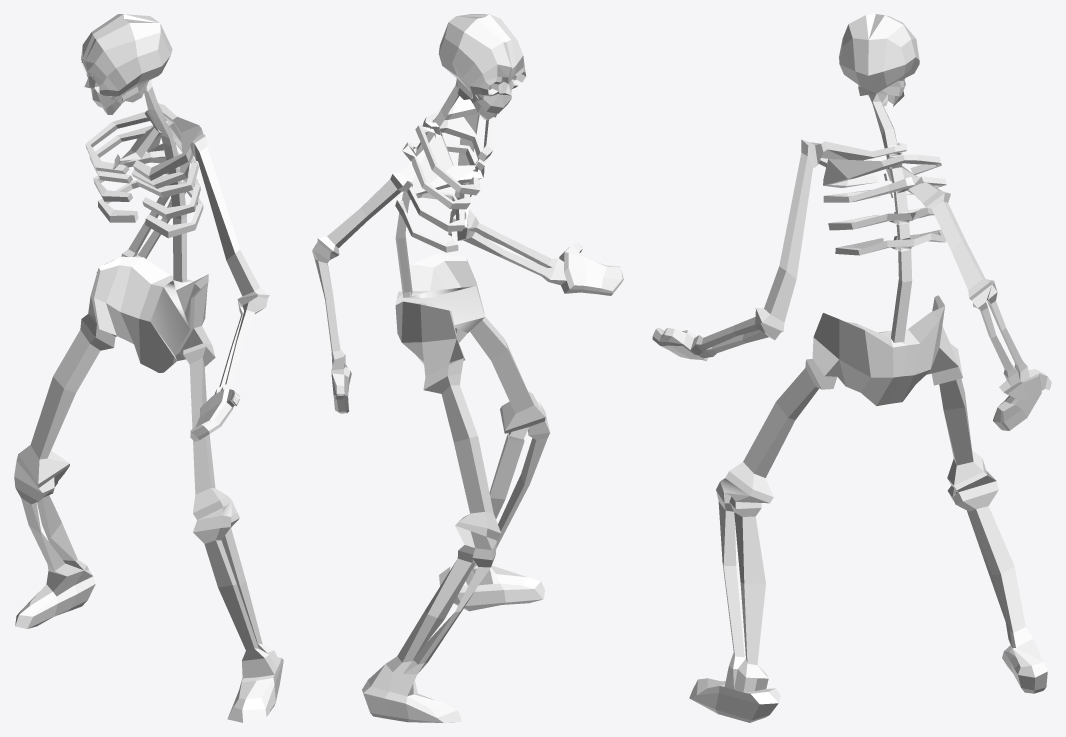
File: SkeletonIdle(86).obj
3 renders of one model, left to right at view 1: azimuth 30°, elevation 25°; view 2: azimuth 150°, elevation 25°; view 3: azimuth 270°, elevation 25°, orthographic. The views are drawn at different scales.
Visible parts, largest first — view 1: Object002; view 2: Object002; view 3: Object002.
Boxes of the visible parts, x1,y1,x2,y2 form: Object002: (14, 14, 283, 722); Object002: (312, 14, 623, 722); Object002: (652, 14, 1051, 722).
Size of the model in its own units: 332 by 1134 by 617.
